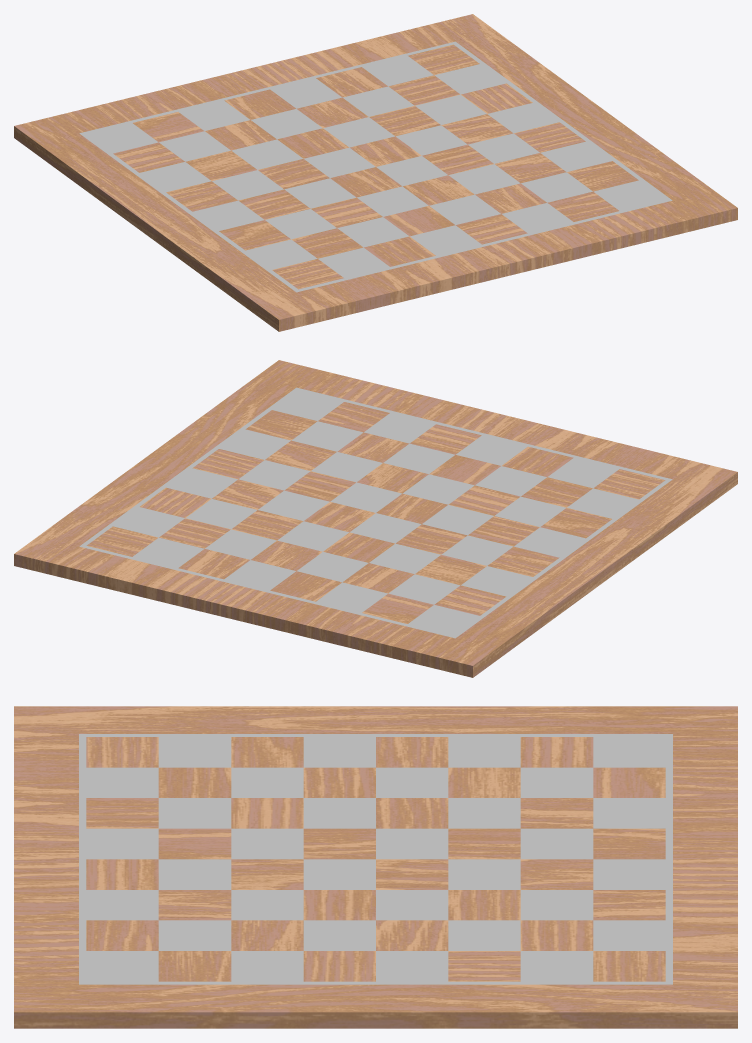
The model's file is board.obj.
3 renders of one model, top to bottom at view 1: azimuth 30°, elevation 25°; view 2: azimuth 150°, elevation 25°; view 3: azimuth 270°, elevation 25°, orthographic. The views are drawn at different scales.
Parts seen in each view (by area): view 1: Plane; view 2: Plane; view 3: Plane.
Boxes of the visible parts, x1=… form: Plane: x1=14, y1=14, x2=737, y2=331; Plane: x1=14, y1=360, x2=737, y2=677; Plane: x1=14, y1=706, x2=737, y2=1028.
Size of the model in its own units: 2 by 0.05 by 2.
